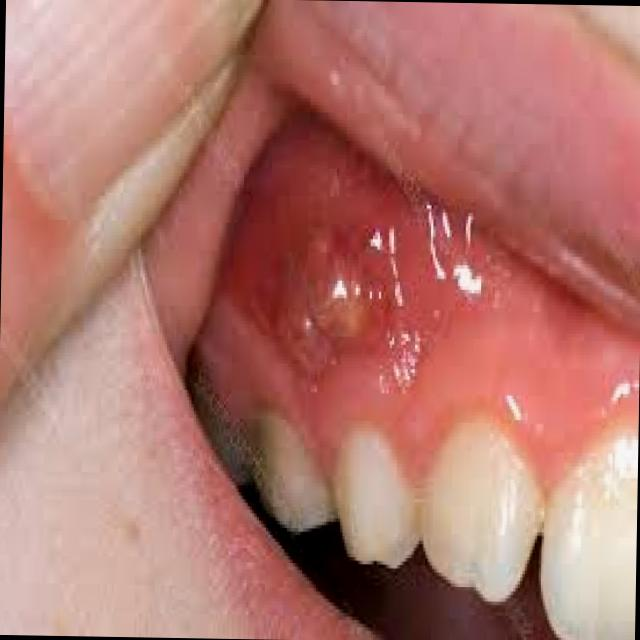abscess: (251, 205, 382, 404)
